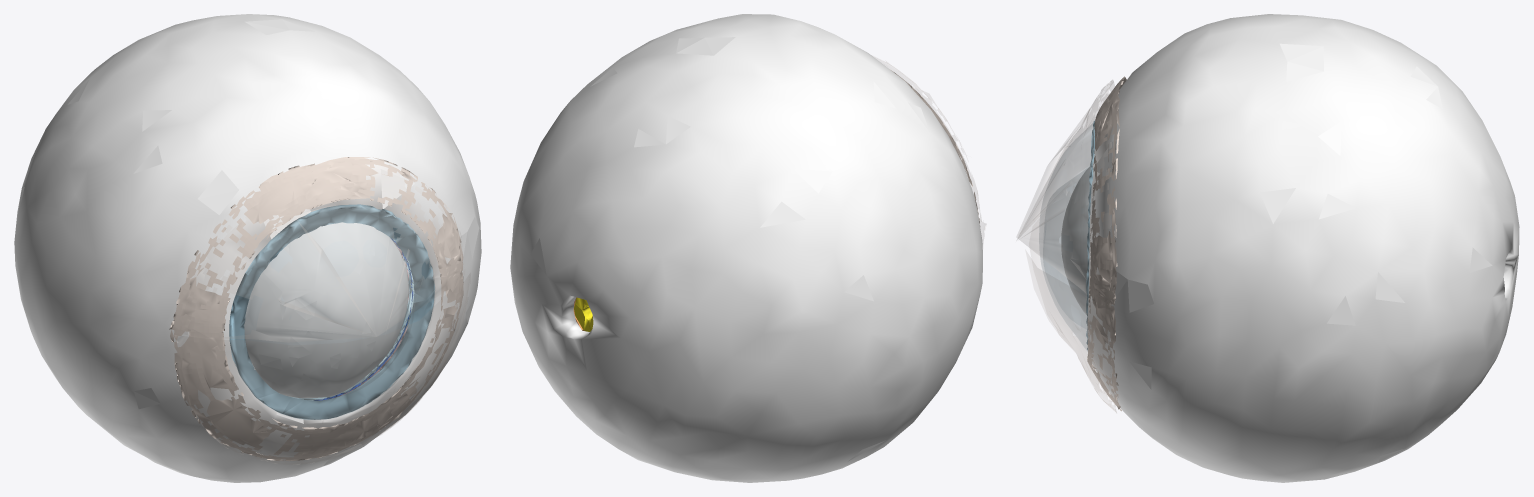
The model's file is 3d-vh-m-eye-r.glb.
3 views of the same model, side by side, from view 1: azimuth 30°, elevation 25°; view 2: azimuth 150°, elevation 25°; view 3: azimuth 270°, elevation 25° (orthographic).
Parts seen in each view (by area): view 1: VH_M_sclera_R, VH_M_cornea_R, VH_M_palpebral_conjunctiva_of_upper_eyelid_R, VH_M_palpebral_conjunctiva_of_lower_eyelid_R, VH_M_bulbar_conjunctiva_R, VH_M_aqueous_humor_R, VH_M_corneo_scleral_junction_R, VH_M_trabecular_meshwork_R; view 2: VH_M_sclera_R, VH_M_palpebral_conjunctiva_of_upper_eyelid_R; view 3: VH_M_sclera_R, VH_M_palpebral_conjunctiva_of_upper_eyelid_R, VH_M_cornea_R, VH_M_bulbar_conjunctiva_R, VH_M_palpebral_conjunctiva_of_lower_eyelid_R, VH_M_aqueous_humor_R, VH_M_corneo_scleral_junction_R.
Part boxes in pixels (x1=…): VH_M_sclera_R: x1=14, y1=14, x2=481, y2=482; VH_M_cornea_R: x1=230, y1=207, x2=434, y2=419; VH_M_palpebral_conjunctiva_of_upper_eyelid_R: x1=177, y1=161, x2=464, y2=341; VH_M_palpebral_conjunctiva_of_lower_eyelid_R: x1=175, y1=274, x2=469, y2=464; VH_M_bulbar_conjunctiva_R: x1=169, y1=157, x2=463, y2=461; VH_M_aqueous_humor_R: x1=244, y1=222, x2=409, y2=398; VH_M_corneo_scleral_junction_R: x1=229, y1=204, x2=434, y2=419; VH_M_trabecular_meshwork_R: x1=287, y1=240, x2=414, y2=400; VH_M_sclera_R: x1=510, y1=14, x2=982, y2=482; VH_M_palpebral_conjunctiva_of_upper_eyelid_R: x1=873, y1=56, x2=981, y2=221; VH_M_sclera_R: x1=1087, y1=14, x2=1519, y2=482; VH_M_palpebral_conjunctiva_of_upper_eyelid_R: x1=1017, y1=80, x2=1114, y2=306; VH_M_cornea_R: x1=1039, y1=124, x2=1093, y2=350; VH_M_bulbar_conjunctiva_R: x1=1087, y1=76, x2=1126, y2=411; VH_M_palpebral_conjunctiva_of_lower_eyelid_R: x1=1026, y1=220, x2=1116, y2=412; VH_M_aqueous_humor_R: x1=1061, y1=167, x2=1090, y2=314; VH_M_corneo_scleral_junction_R: x1=1086, y1=120, x2=1095, y2=349.
Bounding box in the file's own units: 0.0245 × 0.0244 × 0.0263.
